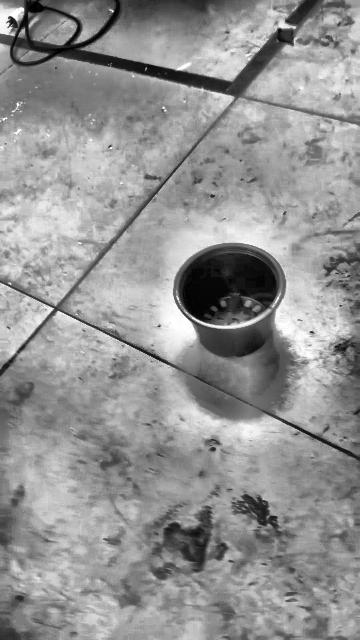pot: (174, 243, 286, 357)
